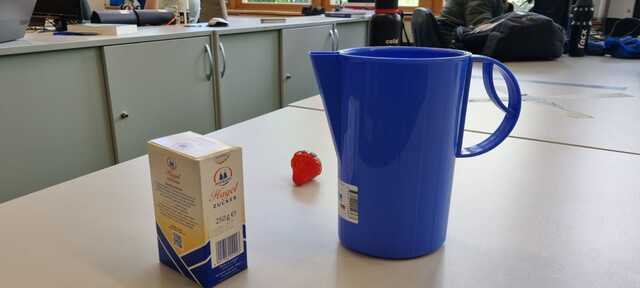004_sugar_box: (146, 129, 249, 288)
012_strawberry: (291, 150, 323, 187)
019_pitcher_base: (309, 45, 524, 263)
